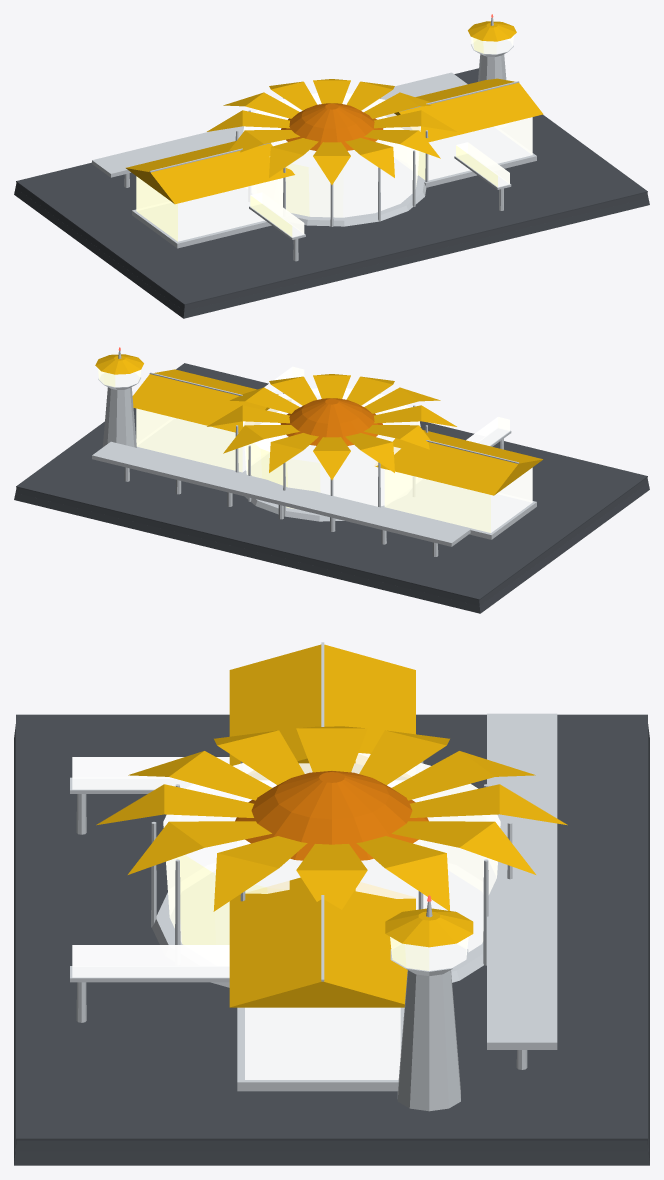
File: lm_23_san_bay_lien_khuong.glb
3 views of the same model, one above another, from view 1: azimuth 30°, elevation 25°; view 2: azimuth 150°, elevation 25°; view 3: azimuth 270°, elevation 25° (orthographic). The views are drawn at different scales.
Parts seen in each view (by area): view 1: Foundation_Plinth_Trim, LienKhuong_Steel_Columns_And_Viaduct, LienKhuong_CurtainWall_Glass_Glow, LienKhuong_Golden_Sunflower_Roof, Foundation_Skirt, LienKhuong_Concourse_Wing_Roof_W, LienKhuong_Concourse_Wing_Roof_E, LienKhuong_Sunflower_Stamen_Dome; view 2: Foundation_Plinth_Trim, LienKhuong_Steel_Columns_And_Viaduct, LienKhuong_CurtainWall_Glass_Glow, LienKhuong_Golden_Sunflower_Roof, Foundation_Skirt, LienKhuong_Concourse_Wing_Roof_W, LienKhuong_Concourse_Wing_Roof_E, LienKhuong_Sunflower_Stamen_Dome; view 3: Foundation_Plinth_Trim, LienKhuong_Steel_Columns_And_Viaduct, LienKhuong_Golden_Sunflower_Roof, LienKhuong_CurtainWall_Glass_Glow, LienKhuong_Concourse_Wing_Roof_E, Foundation_Skirt, LienKhuong_Concourse_Wing_Roof_W, LienKhuong_Sunflower_Stamen_Dome.
Part boxes in pixels (x1,y1,x2,y2): Foundation_Plinth_Trim: (16,68,647,305); LienKhuong_Steel_Columns_And_Viaduct: (92,17,536,261); LienKhuong_CurtainWall_Glass_Glow: (136,35,532,241); LienKhuong_Golden_Sunflower_Roof: (207,21,516,184); Foundation_Skirt: (14,182,649,318); LienKhuong_Concourse_Wing_Roof_W: (126,141,294,204); LienKhuong_Concourse_Wing_Roof_E: (387,78,543,142); LienKhuong_Sunflower_Stamen_Dome: (281,103,383,150); Foundation_Plinth_Trim: (16,363,647,600); LienKhuong_Steel_Columns_And_Viaduct: (92,350,536,556); LienKhuong_CurtainWall_Glass_Glow: (98,366,532,532); LienKhuong_Golden_Sunflower_Roof: (95,354,456,479); Foundation_Skirt: (14,477,649,613); LienKhuong_Concourse_Wing_Roof_W: (375,430,542,495); LienKhuong_Concourse_Wing_Roof_E: (132,369,290,432); LienKhuong_Sunflower_Stamen_Dome: (280,398,382,445); Foundation_Plinth_Trim: (16,714,647,1140); LienKhuong_Steel_Columns_And_Viaduct: (70,713,557,1111); LienKhuong_Golden_Sunflower_Roof: (96,726,567,947); LienKhuong_CurtainWall_Glass_Glow: (72,753,500,1079); LienKhuong_Concourse_Wing_Roof_E: (229,877,415,1007); Foundation_Skirt: (14,724,649,1165); LienKhuong_Concourse_Wing_Roof_W: (229,644,415,779); LienKhuong_Sunflower_Stamen_Dome: (235,771,428,860).
Size of the model in its own units: 109 by 27 by 68.59.
